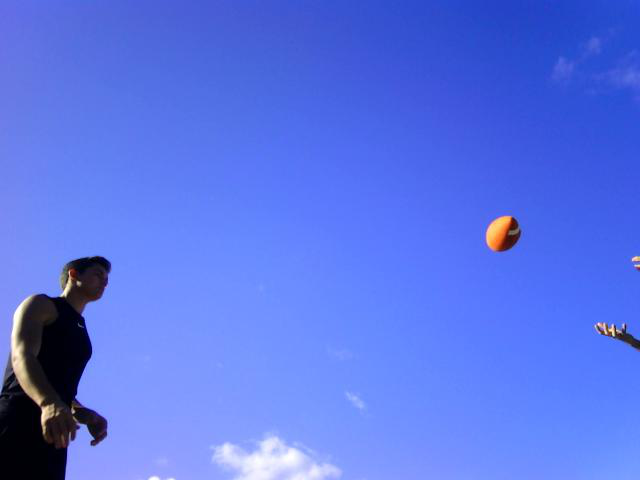football: (484, 211, 520, 256)
